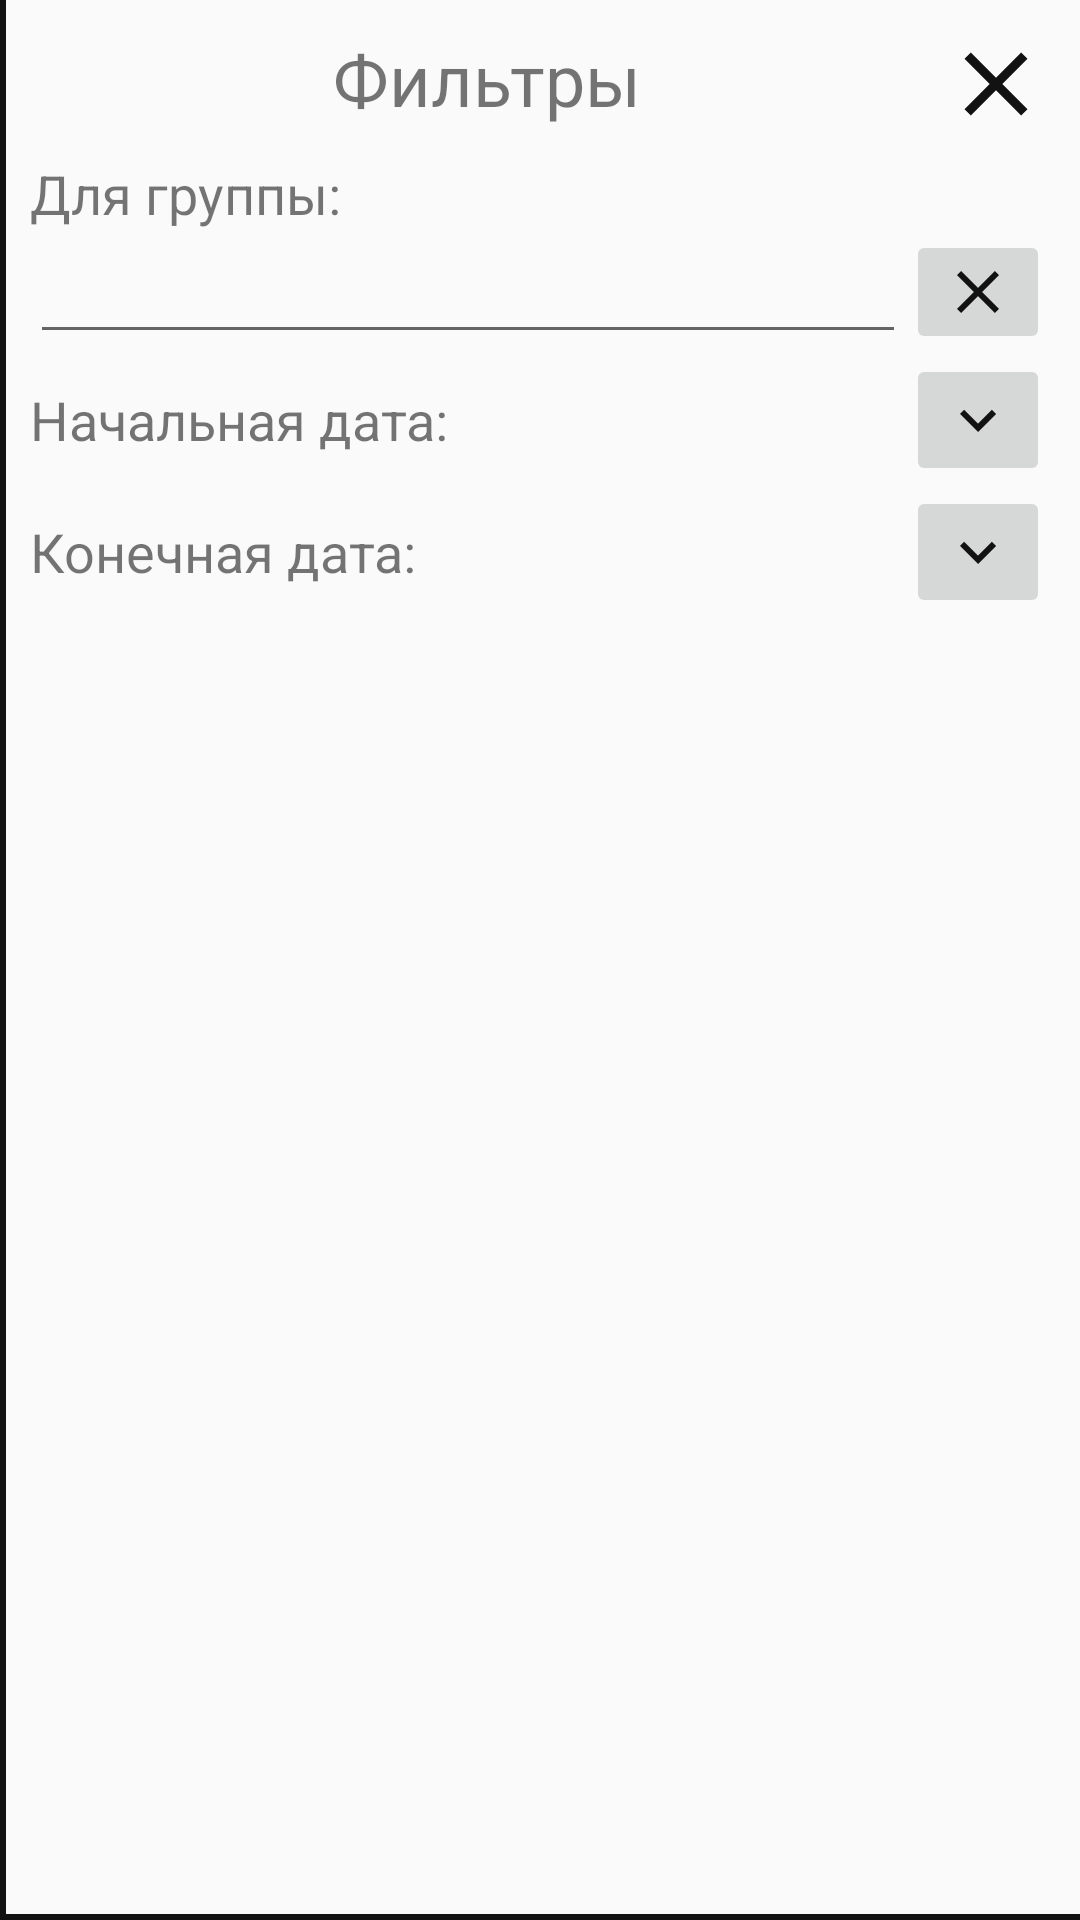

Where icons sit on this 1080 x 1920 app screen, as Rect(x1, y1, x2, y2):
Выберите конечную дату: Rect(918, 504, 1038, 600)
Выберите начальную дату: Rect(918, 372, 1038, 468)
Закрыть и применить: Rect(964, 52, 1028, 116)
Очистить группу: Rect(918, 248, 1038, 336)
